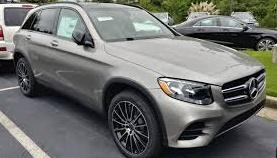SUV: (15, 5, 267, 158)
